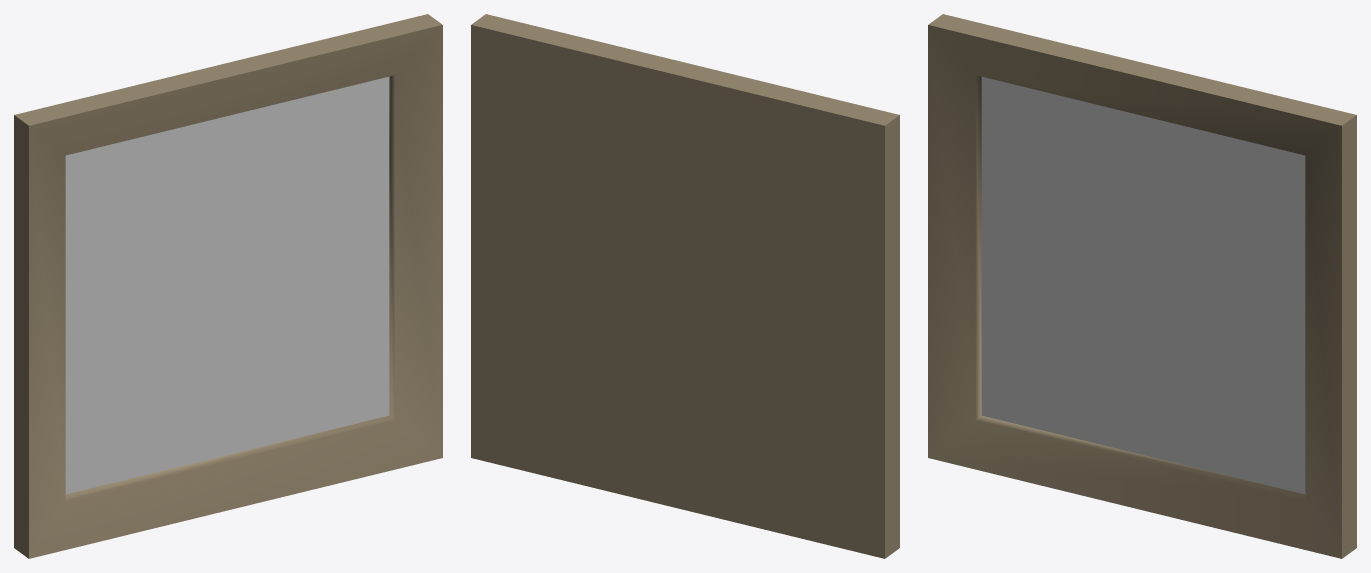
The model's file is frame_quadratic.fbx.
The picture shows the model from 3 angles, left to right: view 1: azimuth 30°, elevation 25°; view 2: azimuth 150°, elevation 25°; view 3: azimuth 330°, elevation 25°; orthographic projection.
Visible parts, largest first — view 1: pCube1; view 2: pCube1; view 3: pCube1.
Boxes of the visible parts, bbox=[...] form: pCube1: bbox=[14, 14, 442, 558]; pCube1: bbox=[471, 14, 899, 558]; pCube1: bbox=[928, 14, 1356, 558].
Size of the model in its own units: 24 by 24 by 1.49.
